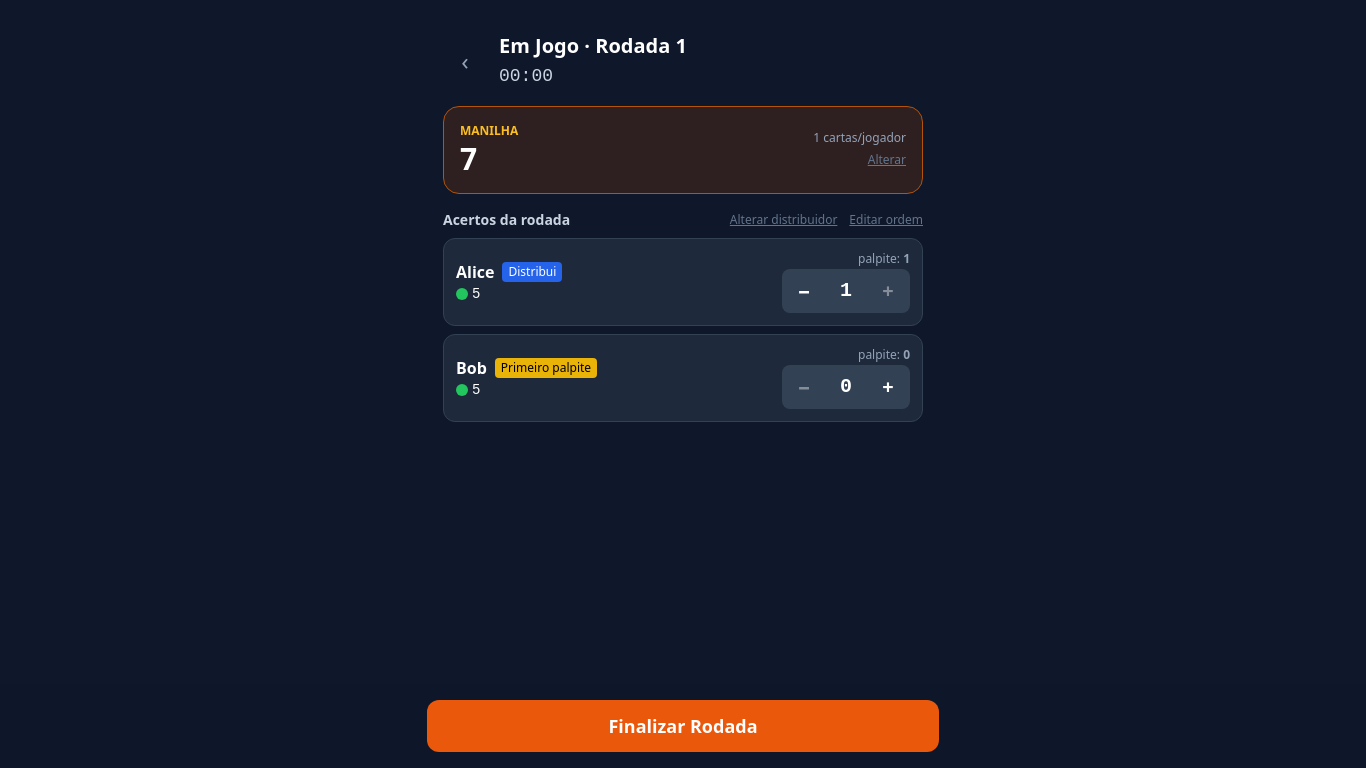
Test: PlayingPhase — dealer toggle › clicking dealer change button shows DealerSelectionStep
Step 1. Click the button "Alterar distribuidor" → (784, 220), box [730,212,837,228]
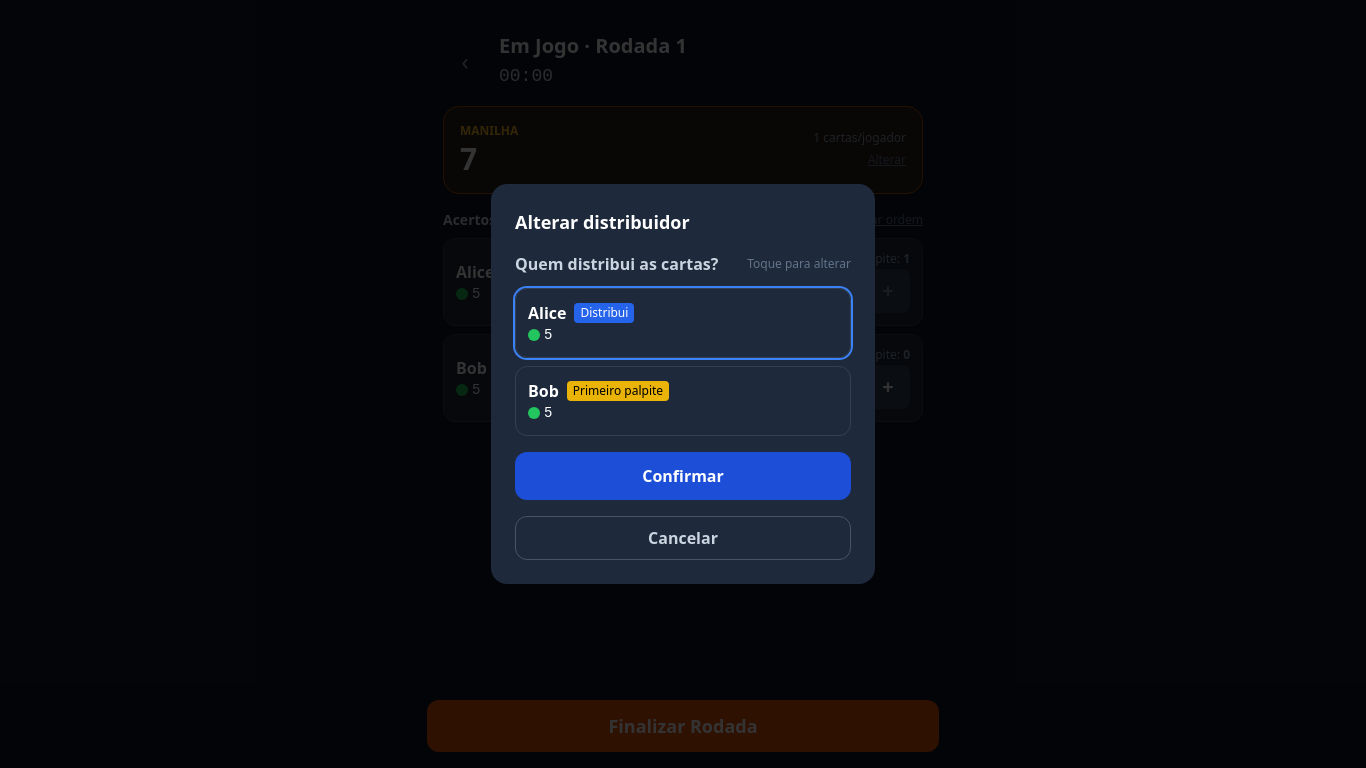
Check: the heading "Quem distribui as cartas?" is shown, box [515,252,718,276]
